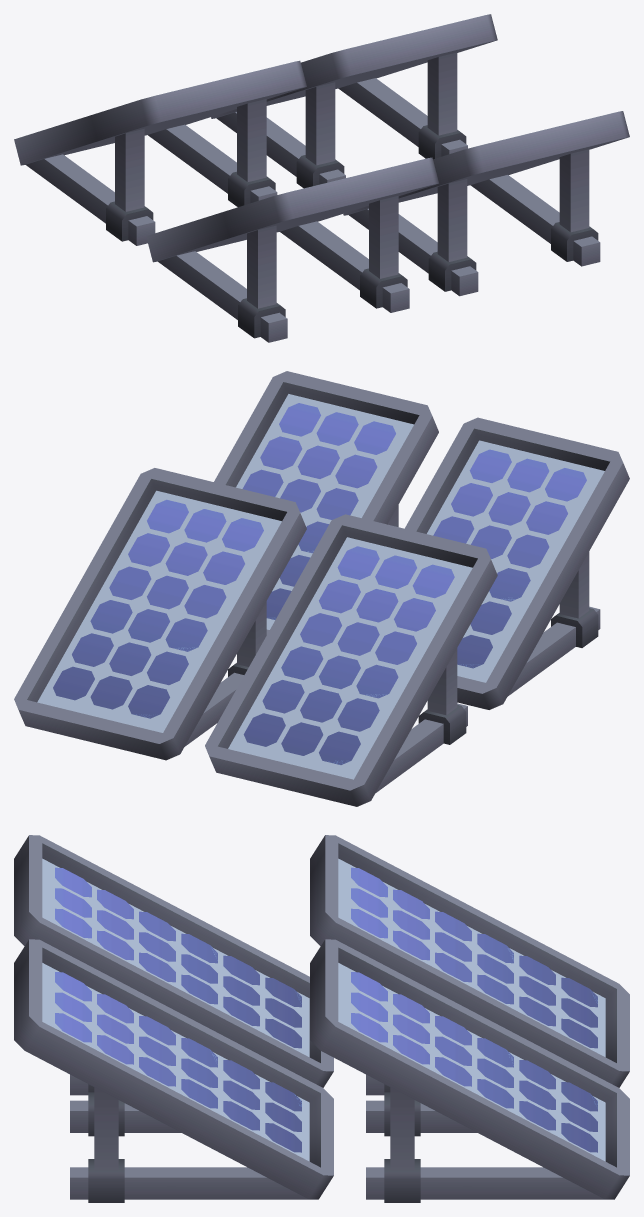
File: solar-panel-portrait-group.glb
3 views of the same model, one above another, from view 1: azimuth 30°, elevation 25°; view 2: azimuth 150°, elevation 25°; view 3: azimuth 270°, elevation 25° (orthographic). The views are drawn at different scales.
Visible parts, largest first — view 1: solar-panel-portrait-group; view 2: solar-panel-portrait-group; view 3: solar-panel-portrait-group.
Boxes of the visible parts, left/top/right/bottom form: solar-panel-portrait-group: left=14, top=14, right=629, bottom=342; solar-panel-portrait-group: left=14, top=371, right=629, bottom=806; solar-panel-portrait-group: left=14, top=835, right=629, bottom=1202.
Size of the model in its own units: 0.9182 by 0.4099 by 1.25.
1 material, 1 textured.
